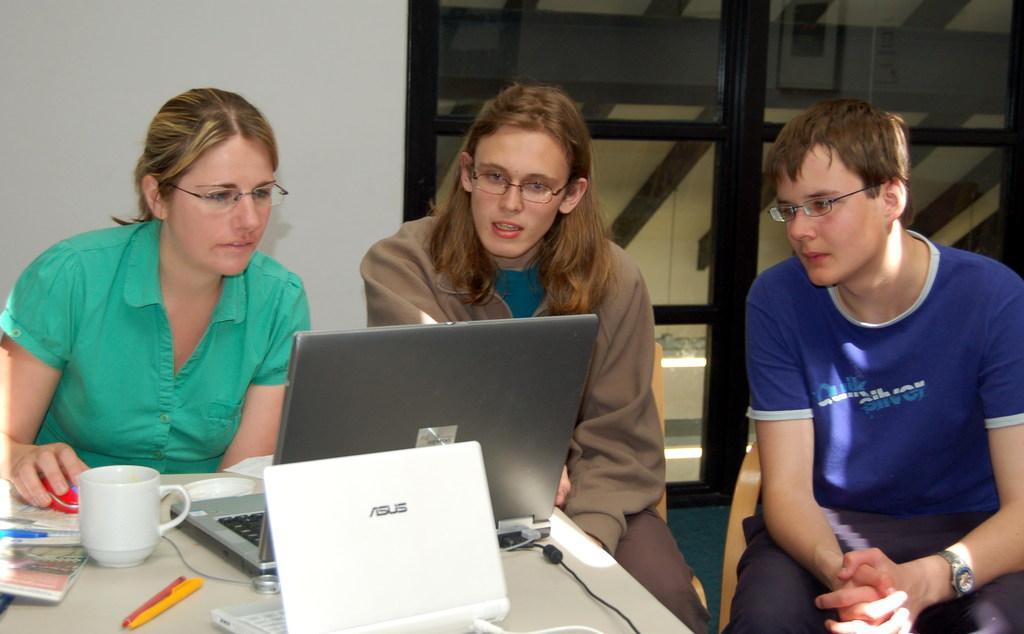Laptop: (169, 313, 594, 586), (211, 438, 513, 633)
